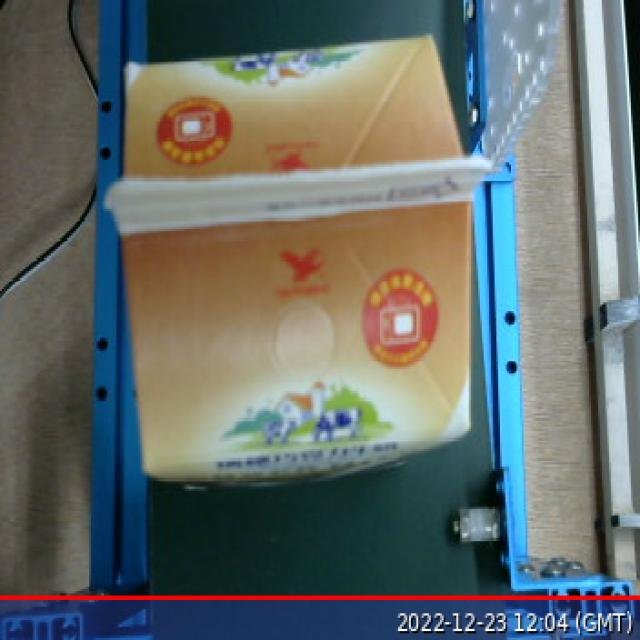non_white_jug: (88, 16, 505, 507)
